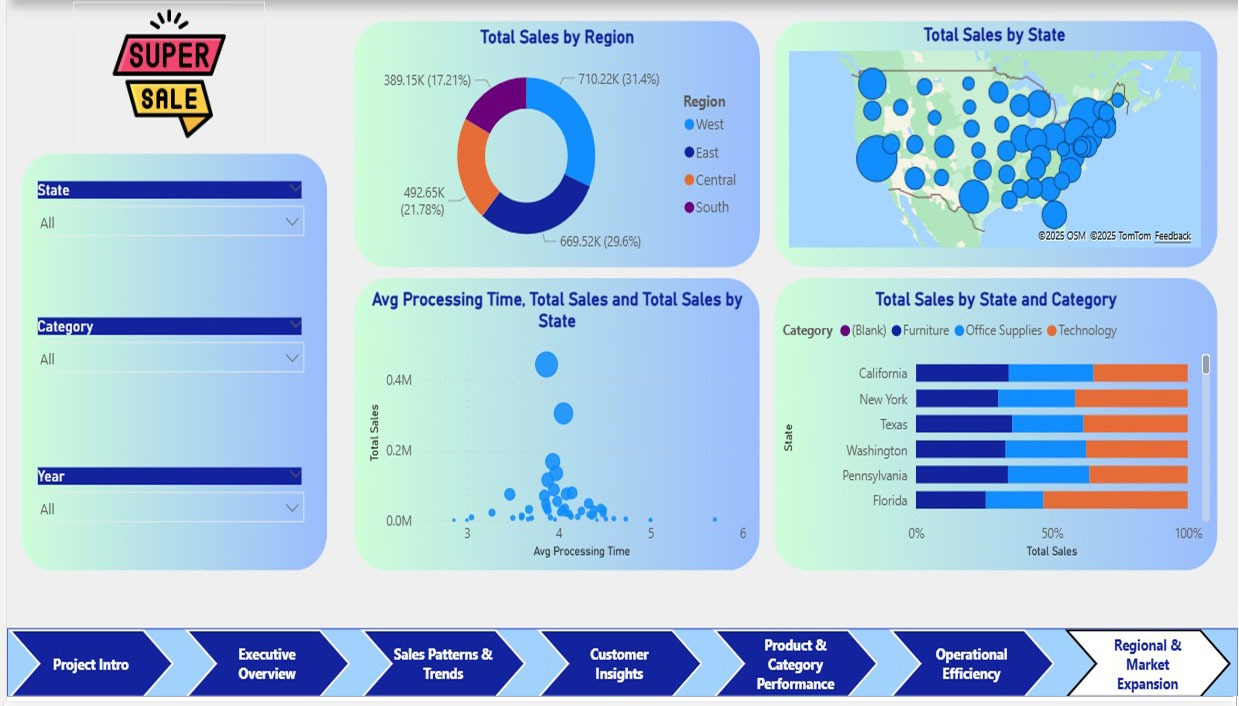

The page's visual inventory and layout, read from the dashboard file:
{"tool":"powerbi","page":{"name":"Regional & Market Expansion","canvas":[1280,720],"ordinal":6},"visuals":[{"type":"pageNavigator","box":[0,649.9,1279.5,65.5],"z":1000},{"type":"azureMap","fields":{"Category":["Dim_Destination.State"],"Size":["Sales Measure.Total Sales"]},"box":[807.2,96.7,437.8,209.4],"z":2000},{"type":"hundredPercentStackedBarChart","fields":{"Series":["Dim_Product.Category"],"Y":["Sales Measure.Total Sales"],"Category":["Dim_Destination.State"]},"box":[801.7,338.3,453.3,251.7],"z":3000},{"type":"donutChart","fields":{"Y":["Sales Measure.Total Sales"],"Category":["Dim_Destination.Region"]},"box":[371.7,98.3,401.7,218.3],"z":4000},{"type":"scatterChart","fields":{"Size":["Sales Measure.Total Sales"],"Category":["Dim_Destination.State"],"Y":["Sales Measure.Total Sales"],"X":["Cust. & Ship. Measures.Avg Processing Time"]},"box":[371.7,338.3,401.7,251.7],"z":5000},{"type":"slicer","fields":{"Values":["Dim_Destination.State"]},"box":[18.3,235,300,81.7],"z":6000},{"type":"slicer","fields":{"Values":["Date.Year"]},"box":[18.3,496.7,300,80],"z":7000},{"type":"image","box":[68.3,76.7,200,131.7],"z":8000},{"type":"slicer","fields":{"Values":["Dim_Product.Category"]},"box":[18.3,360,300,81.7],"z":9000}]}

Visuals, with their boxes in screenshot pixels (x1, y1, x2, y2), scaled from the page's 1280x720 canvas onto the 1239x706 screenshot:
pageNavigator: {"x1": 0, "y1": 637, "x2": 1238, "y2": 701}
azureMap - Dim_Destination.State x Sales Measure.Total Sales: {"x1": 781, "y1": 95, "x2": 1205, "y2": 300}
hundredPercentStackedBarChart - Dim_Product.Category x Sales Measure.Total Sales: {"x1": 776, "y1": 332, "x2": 1215, "y2": 579}
donutChart - Sales Measure.Total Sales x Dim_Destination.Region: {"x1": 360, "y1": 96, "x2": 749, "y2": 310}
scatterChart - Sales Measure.Total Sales x Dim_Destination.State: {"x1": 360, "y1": 332, "x2": 749, "y2": 579}
slicer - Dim_Destination.State: {"x1": 18, "y1": 230, "x2": 308, "y2": 311}
slicer - Date.Year: {"x1": 18, "y1": 487, "x2": 308, "y2": 565}
image: {"x1": 66, "y1": 75, "x2": 260, "y2": 204}
slicer - Dim_Product.Category: {"x1": 18, "y1": 353, "x2": 308, "y2": 433}
